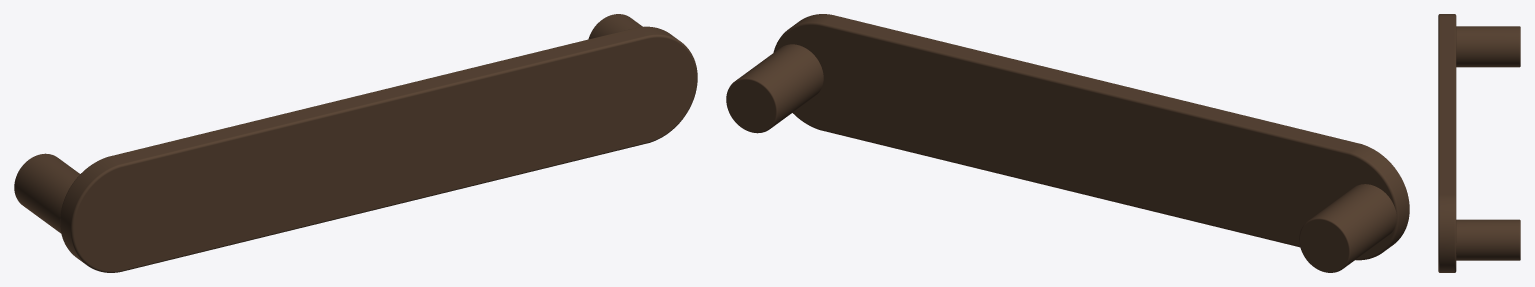
The model's file is eurofit-h-448-128vbh.glb.
3 renders of one model, left to right at view 1: azimuth 30°, elevation 25°; view 2: azimuth 150°, elevation 25°; view 3: azimuth 270°, elevation 25°, orthographic. The views are drawn at different scales.
Parts seen in each view (by area): view 1: Oval plate grip, Plate post, Plate post.001; view 2: Oval plate grip, Plate post, Plate post.001; view 3: Oval plate grip, Plate post, Plate post.001.
Part boxes in pixels (x1=…): Oval plate grip: x1=60, y1=26, x2=697, y2=272; Plate post: x1=14, y1=153, x2=79, y2=233; Plate post.001: x1=588, y1=14, x2=642, y2=39; Oval plate grip: x1=773, y1=14, x2=1409, y2=260; Plate post: x1=1299, y1=184, x2=1396, y2=272; Plate post.001: x1=726, y1=44, x2=823, y2=133; Oval plate grip: x1=1438, y1=14, x2=1456, y2=272; Plate post: x1=1456, y1=26, x2=1520, y2=67; Plate post.001: x1=1456, y1=219, x2=1520, y2=260.
Bounding box in the file's own units: 0.14 × 0.023 × 0.023.
